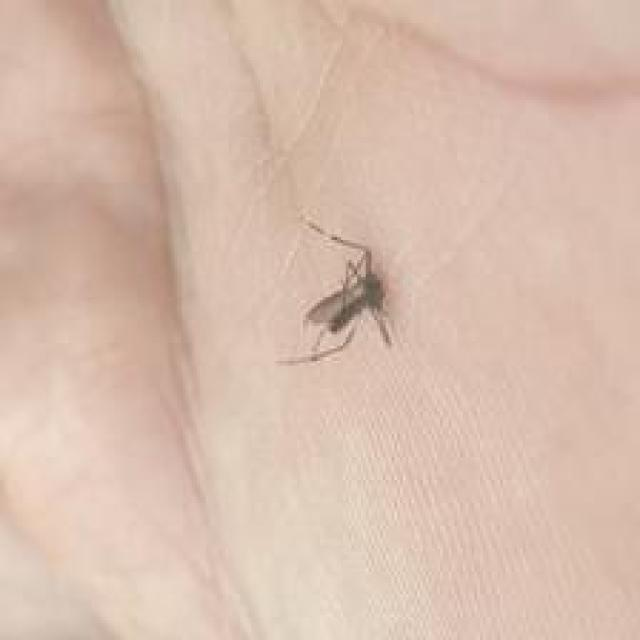Aedes albopictus: (276, 216, 396, 367)
